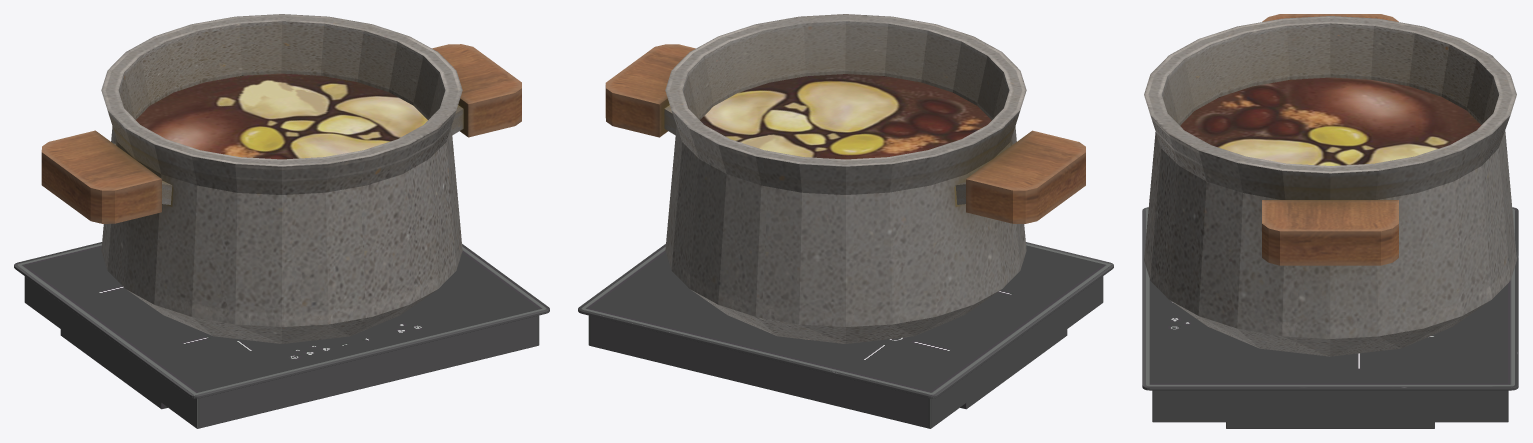
File: P_Kitchenware_003_S1_M03.obj
3 renders of one model, left to right at view 1: azimuth 30°, elevation 25°; view 2: azimuth 150°, elevation 25°; view 3: azimuth 270°, elevation 25°, orthographic. The views are drawn at different scales.
Bounding box in the file's own units: 0.6971 × 0.3713 × 0.51.
3 materials, 3 textured.
